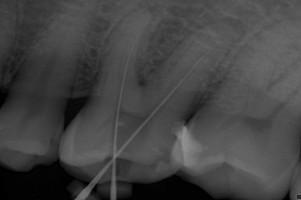Endo-Periodontal Lesion: (137, 74, 146, 86)
